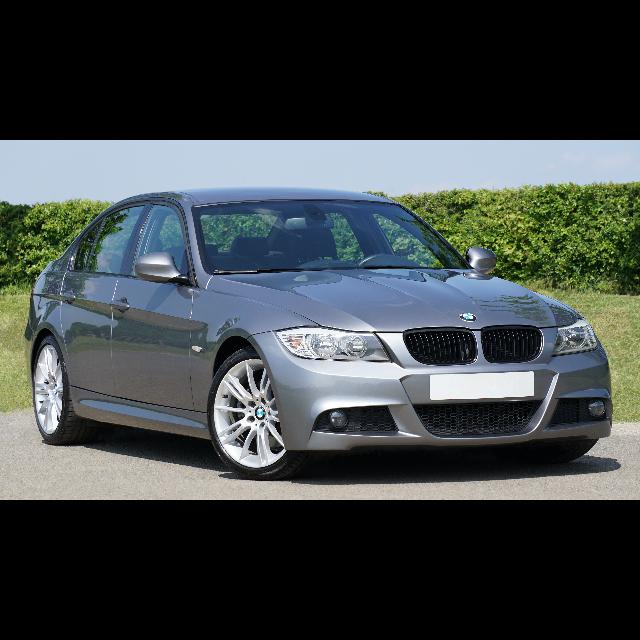cars: (18, 179, 622, 483)
